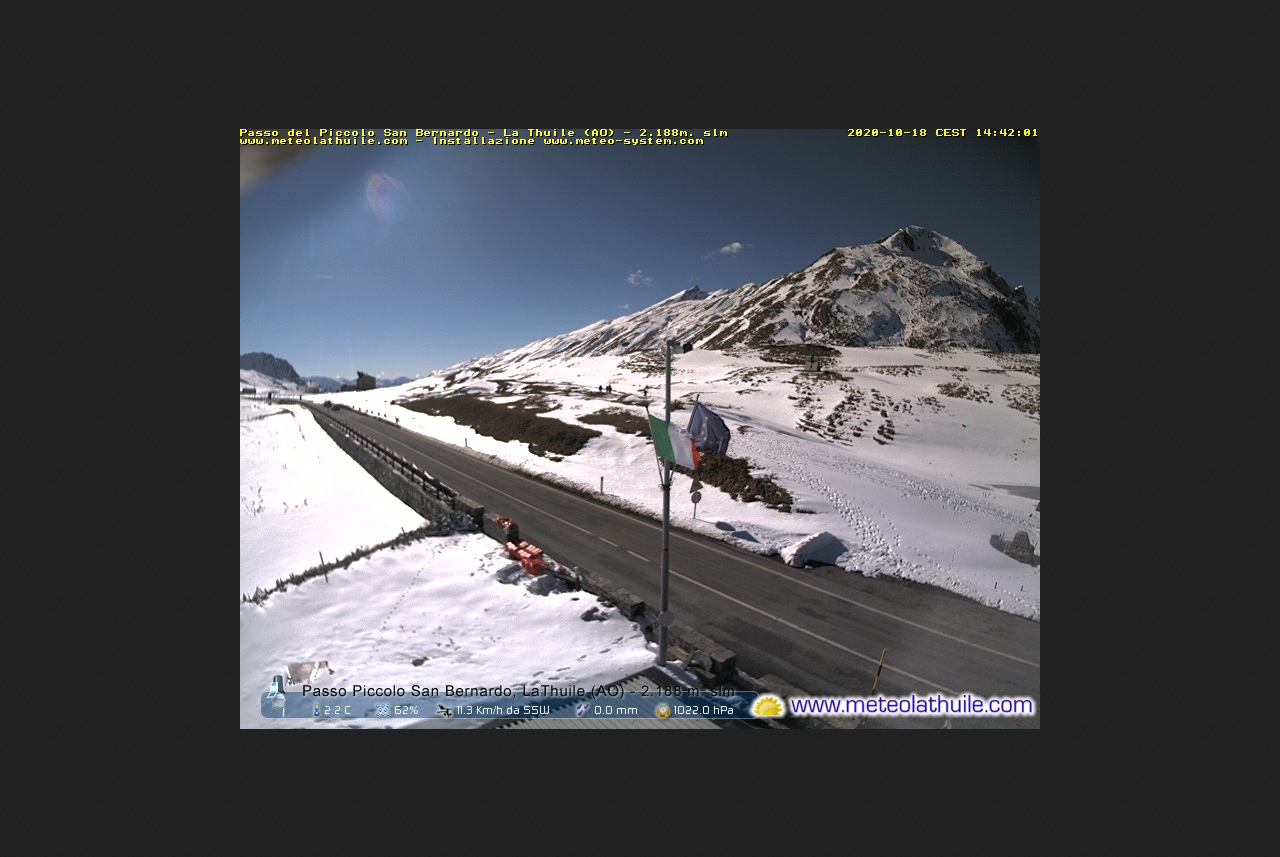yes: (647, 417, 699, 468), (688, 402, 727, 453)
